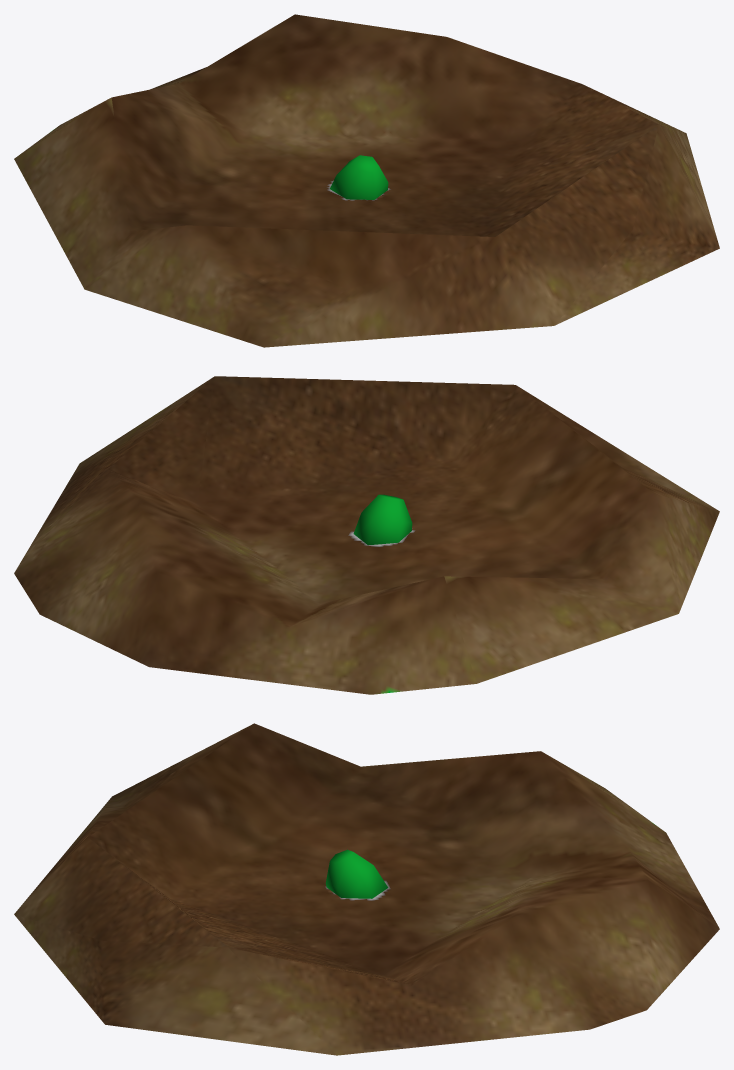
The model's file is seed.glb.
The picture shows the model from 3 angles, top to bottom: view 1: azimuth 30°, elevation 25°; view 2: azimuth 150°, elevation 25°; view 3: azimuth 270°, elevation 25°; orthographic projection.
Parts seen in each view (by area): view 1: Plane; view 2: Plane; view 3: Plane.
Part boxes in pixels (x1=…): Plane: x1=14, y1=14, x2=719, y2=347; Plane: x1=14, y1=376, x2=719, y2=694; Plane: x1=14, y1=723, x2=719, y2=1055.
Bounding box in the file's own units: 1.24 × 0.17 × 1.26.
1 material, 1 textured.
